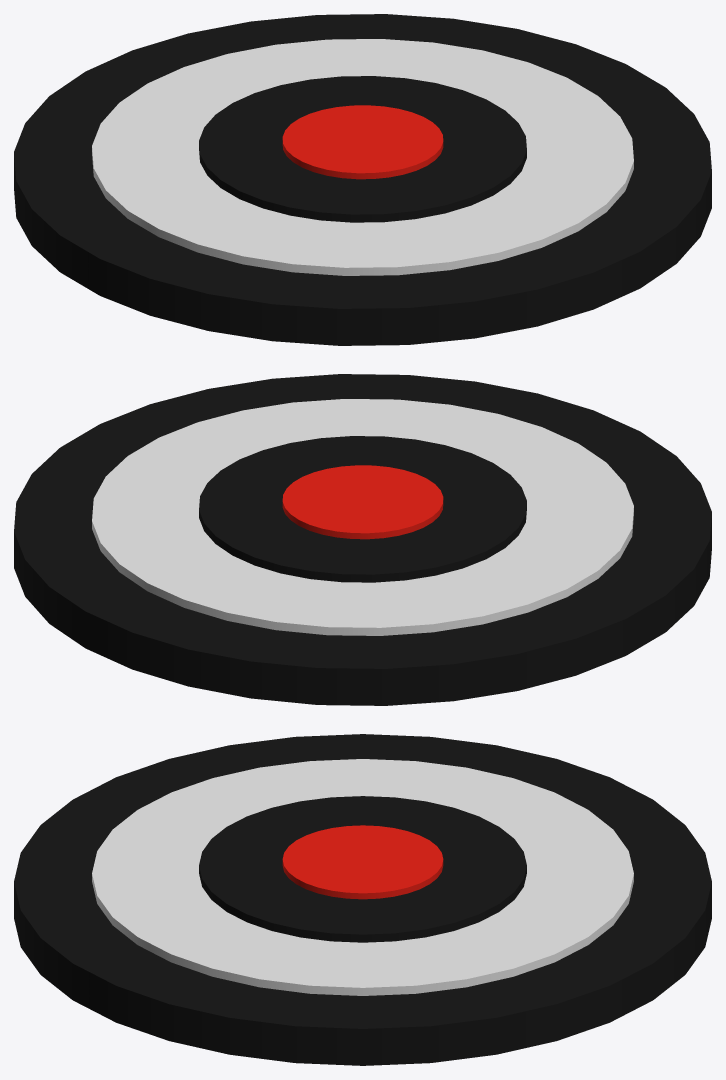
Rendered from Tartget main.fbx.
The picture shows the model from 3 angles, top to bottom: view 1: azimuth 30°, elevation 25°; view 2: azimuth 150°, elevation 25°; view 3: azimuth 270°, elevation 25°; orthographic projection.
Parts seen in each view (by area): view 1: Target full; view 2: Target full; view 3: Target full.
Boxes of the visible parts, left/top/right/bottom form: Target full: left=14, top=14, right=711, bottom=345; Target full: left=14, top=374, right=711, bottom=705; Target full: left=14, top=734, right=711, bottom=1065.
Bounding box in the file's own units: 200 × 18.68 × 200.
